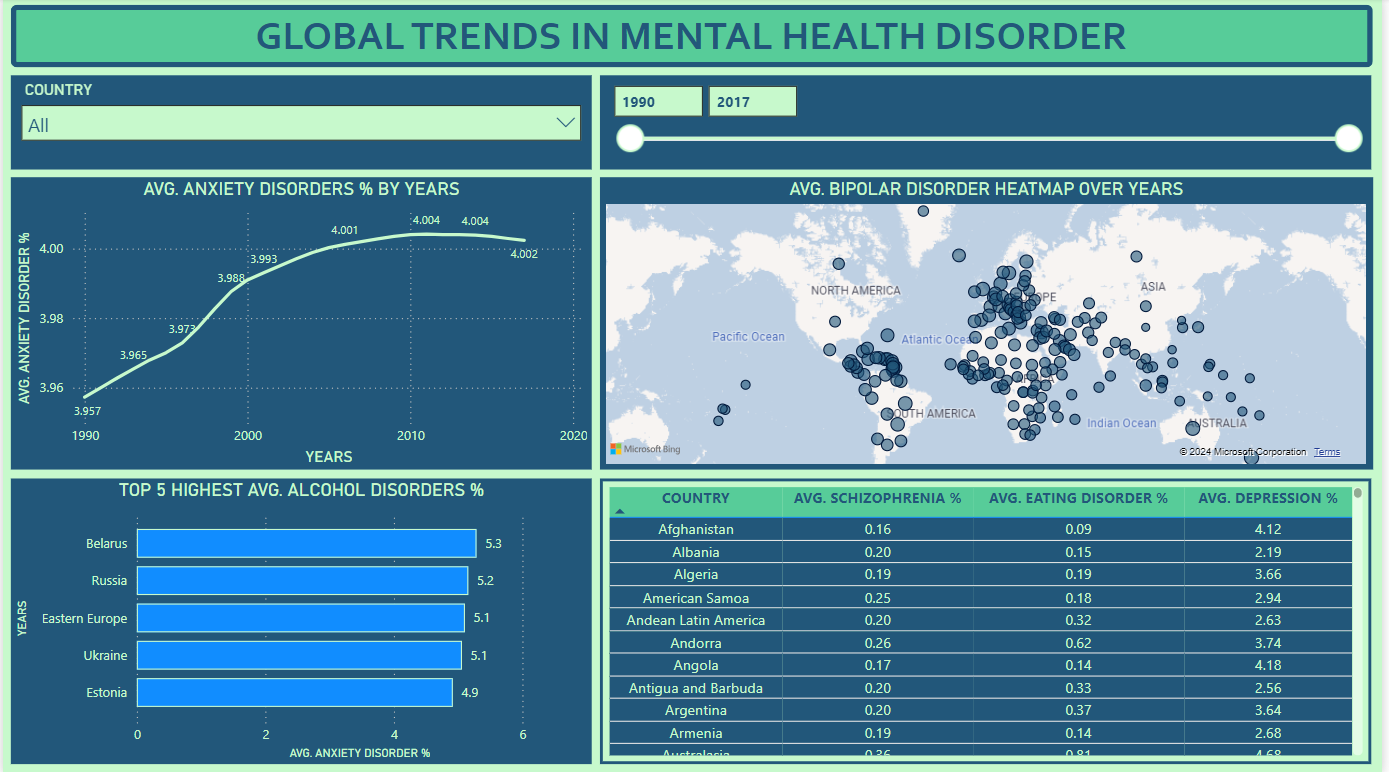

The dashboard page shown, as its layout file describes it:
{"tool":"powerbi","page":{"name":"OVERALL DASHBOARD","canvas":[1280,720],"ordinal":0},"visuals":[{"type":"shape","box":[7.3,6.2,1264.4,58.2],"z":0},{"type":"lineChart","title":"AVG. ANXIETY DISORDERS % BY YEARS","fields":{"Category":["Mental health Depression disord.Year"],"Y":["Avg(Mental health Depression disord.Anxiety disorders (%))"]},"box":[7.3,166.4,539.6,271.4],"z":1001},{"type":"clusteredBarChart","title":"TOP 5 HIGHEST AVG. ALCOHOL DISORDERS %","fields":{"Category":["Mental health Depression disord.Entity"],"Y":["Avg(Mental health Depression disord.Alcohol use disorders (%))"]},"box":[7.3,446.1,539.6,265.1],"z":1002},{"type":"tableEx","fields":{"Values":["Mental health Depression disord.Entity","Avg(Mental health Depression disord.Schizophrenia (%))","Avg(Mental health Depression disord.Eating disorders (%))","Avg(Mental health Depression disord.Depression (%))"]},"box":[554.2,446.1,716.4,265.1],"z":1003},{"type":"map","title":"AVG. BIPOLAR DISORDER HEATMAP OVER YEARS","fields":{"Category":["Mental health Depression disord.Entity"],"Size":["Avg(Mental health Depression disord.Bipolar disorder (%))"]},"box":[554.2,166.4,717.4,271.4],"z":1004},{"type":"textbox","box":[7.3,6.2,1263.3,58.2],"z":1005},{"type":"slicer","fields":{"Values":["Mental health Depression disord.Year"]},"box":[554.2,71.7,716.4,87.3],"z":1006},{"type":"slicer","fields":{"Values":["Mental health Depression disord.Entity"]},"box":[7.3,71.7,539.6,87.3],"z":1007}]}

Visuals, with their boxes in screenshot pixels (x1, y1, x2, y2), scaled from the page's 1280x720 canvas onto the 1389x772 screenshot:
shape: 8, 7, 1380, 69
"AVG. ANXIETY DISORDERS % BY YEARS" lineChart: 8, 178, 593, 469
"TOP 5 HIGHEST AVG. ALCOHOL DISORDERS %" clusteredBarChart: 8, 478, 593, 763
tableEx - Mental health Depression disord.Entity x Avg(Mental health Depression disord.Schizophrenia (%)): 601, 478, 1379, 763
"AVG. BIPOLAR DISORDER HEATMAP OVER YEARS" map: 601, 178, 1380, 469
textbox: 8, 7, 1379, 69
slicer - Mental health Depression disord.Year: 601, 77, 1379, 170
slicer - Mental health Depression disord.Entity: 8, 77, 593, 170
